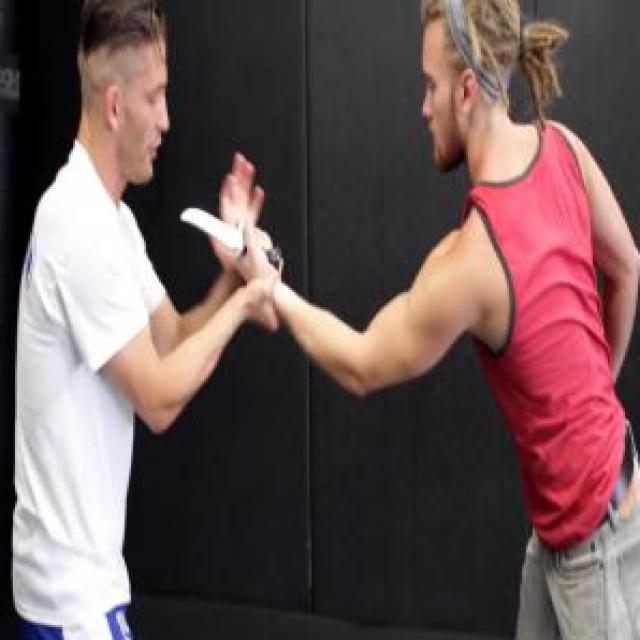knife: (177, 189, 288, 273)
